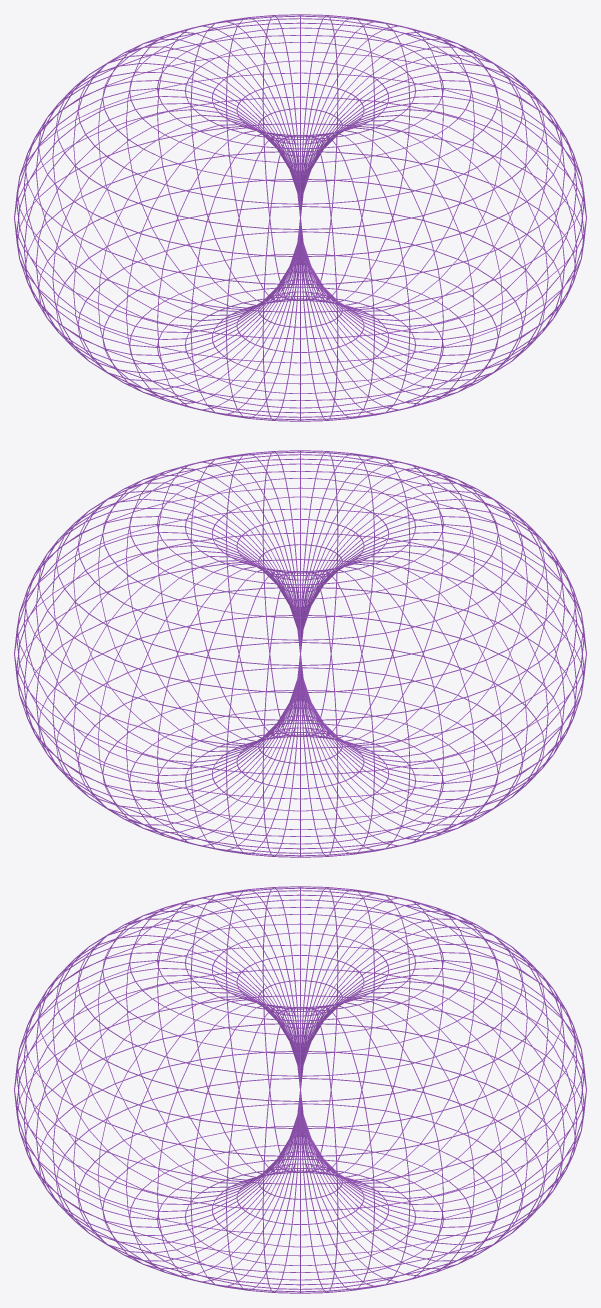
Rendered from pattern_wire.glb.
3 renders of one model, top to bottom at view 1: azimuth 30°, elevation 25°; view 2: azimuth 150°, elevation 25°; view 3: azimuth 270°, elevation 25°, orthographic.
Visible parts, largest first — view 1: pattern_wire; view 2: pattern_wire; view 3: pattern_wire.
Boxes of the visible parts, x1,y1,x2,y2 form: pattern_wire: [14, 14, 586, 421]; pattern_wire: [14, 450, 586, 857]; pattern_wire: [14, 886, 586, 1293].
Size of the model in its own units: 1.2 by 0.602 by 1.2.
